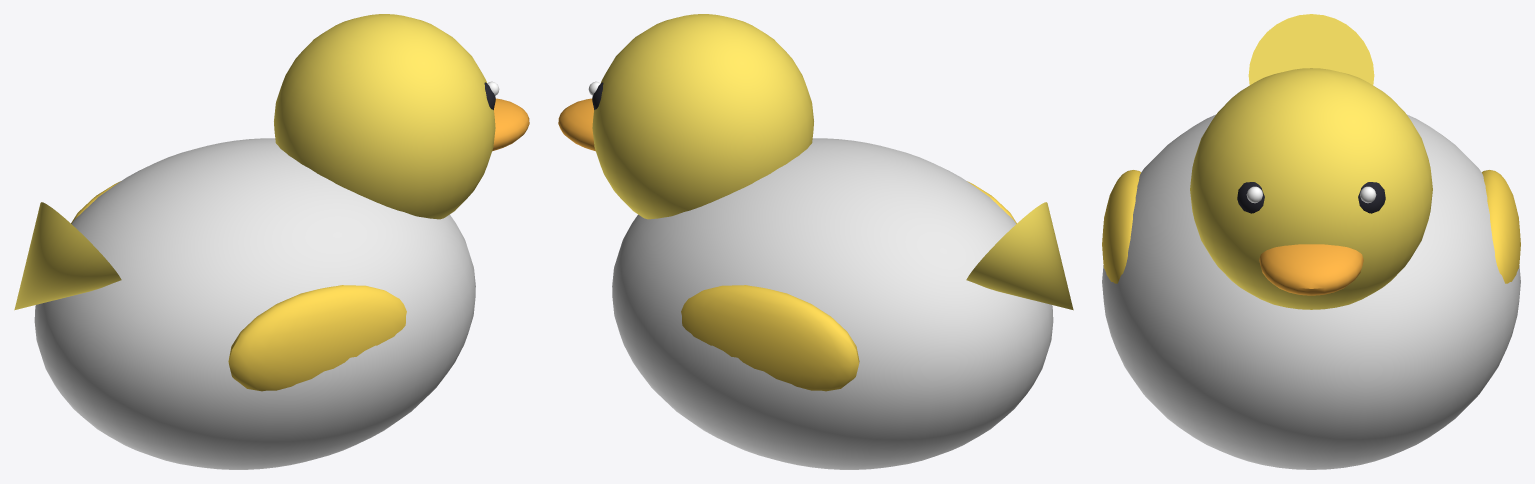
Rendered from duck.fbx.
3 views of the same model, side by side, from view 1: azimuth 30°, elevation 25°; view 2: azimuth 150°, elevation 25°; view 3: azimuth 270°, elevation 25° (orthographic). The views are drawn at different scales.
Parts seen in each view (by area): view 1: Sphere; view 2: Sphere; view 3: Sphere.
Part boxes in pixels (bbox=[...]): Sphere: bbox=[14, 14, 529, 469]; Sphere: bbox=[558, 14, 1073, 469]; Sphere: bbox=[1102, 14, 1520, 469].
Bounding box in the file's own units: 3.08 × 2.25 × 2.
